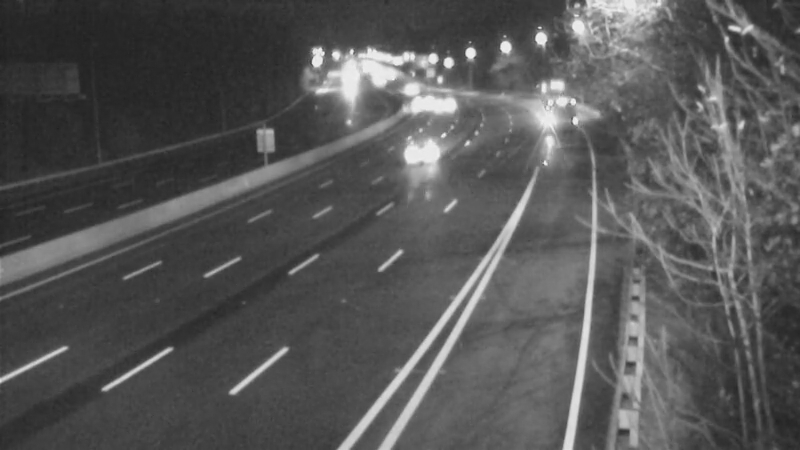vehicle: (382, 114, 462, 194), (380, 65, 430, 115), (423, 78, 473, 128), (393, 80, 443, 130), (527, 91, 577, 141)
